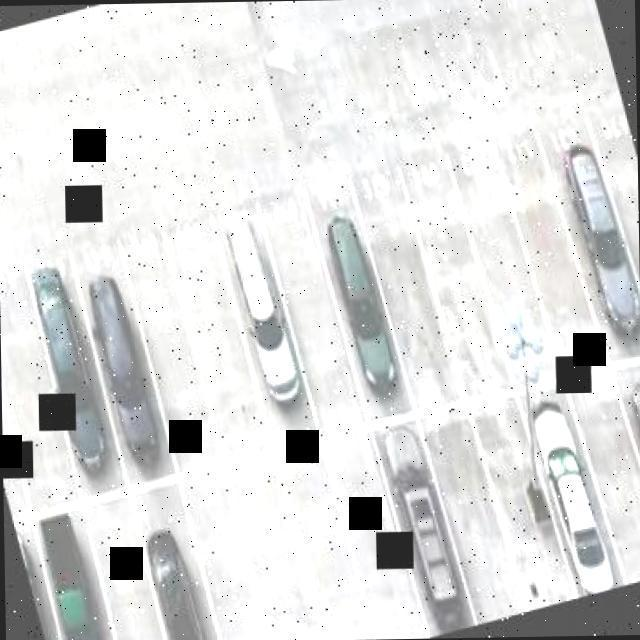car: (218, 222, 310, 426), (320, 204, 402, 406), (528, 403, 610, 598), (388, 454, 471, 636), (82, 290, 166, 464), (31, 264, 102, 450), (40, 528, 116, 640), (148, 533, 215, 640), (629, 378, 640, 571)
free: (550, 136, 637, 332), (172, 248, 256, 423), (371, 206, 446, 376), (465, 194, 536, 364), (567, 395, 640, 555), (447, 447, 515, 611), (490, 442, 560, 601), (0, 311, 65, 481), (342, 484, 412, 640), (524, 171, 588, 340), (276, 250, 344, 394), (132, 264, 196, 416), (300, 505, 371, 640), (246, 506, 315, 640), (199, 525, 268, 640), (420, 209, 476, 337), (104, 543, 173, 640), (607, 150, 640, 308), (0, 302, 18, 493)
